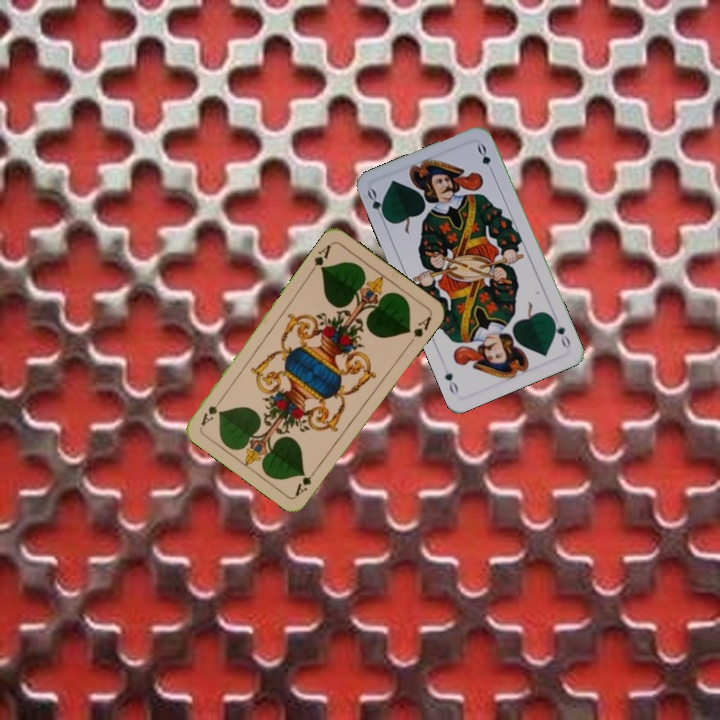GA: (291, 464, 320, 499), (306, 240, 334, 276)
GO: (363, 185, 390, 224), (548, 314, 573, 351)
